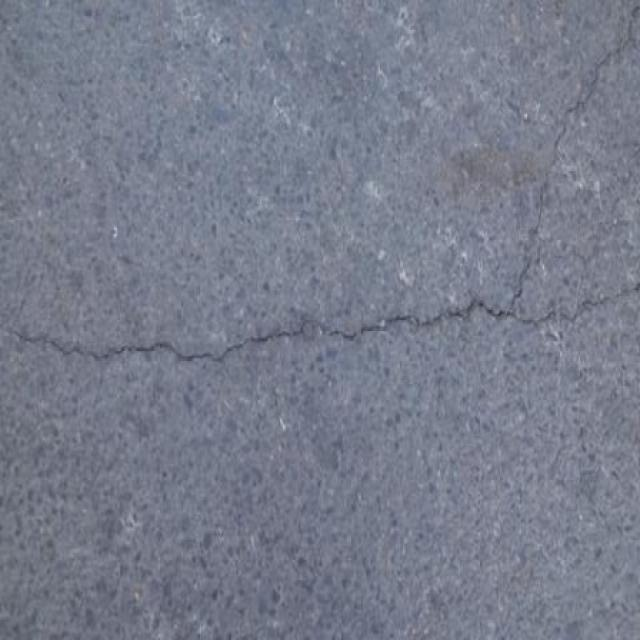Alligator Crack: (0, 1, 640, 370)
